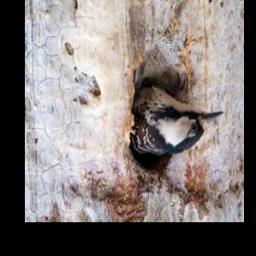Woodpecker: (132, 83, 223, 161)
